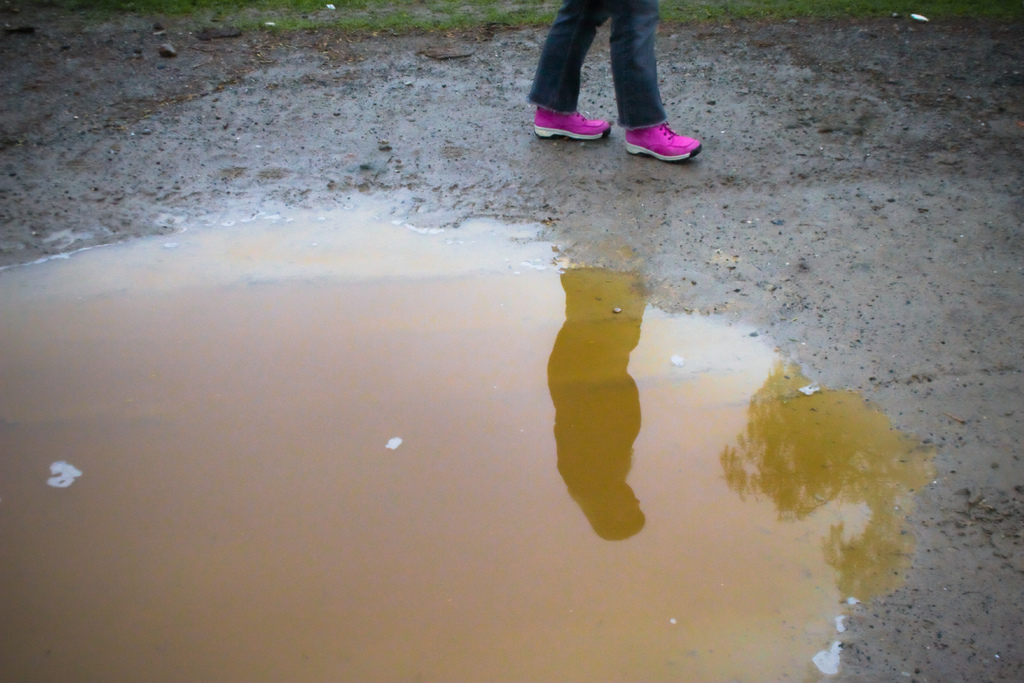person: (514, 0, 712, 163)
